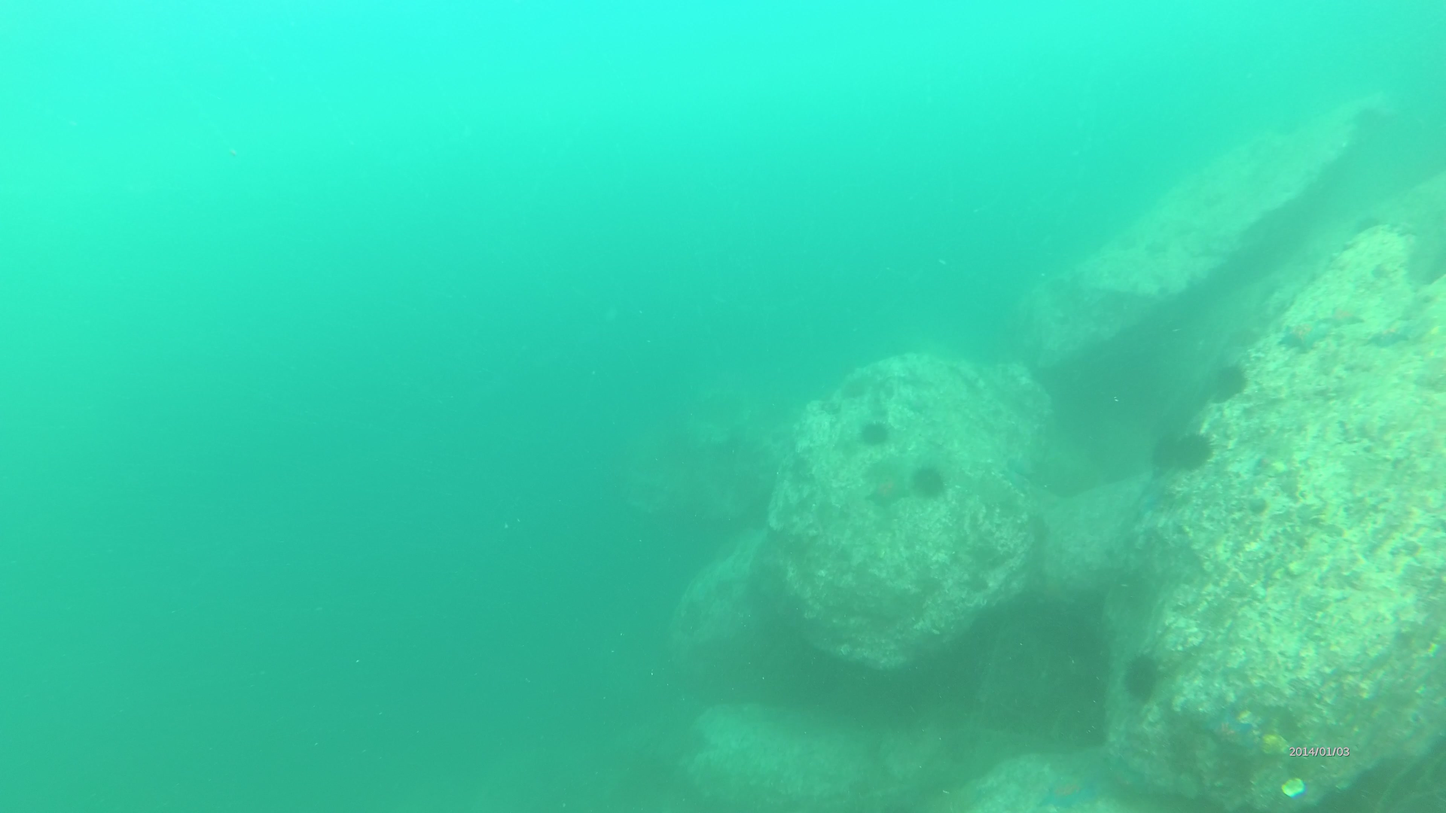holothurian: (1037, 768, 1101, 808), (1203, 713, 1254, 758), (1279, 316, 1328, 358), (1316, 297, 1362, 327), (1374, 315, 1411, 349)
starfish: (1121, 648, 1168, 701), (909, 461, 950, 501), (1177, 428, 1214, 470), (1154, 429, 1182, 473), (1214, 362, 1247, 396), (863, 420, 888, 445)
